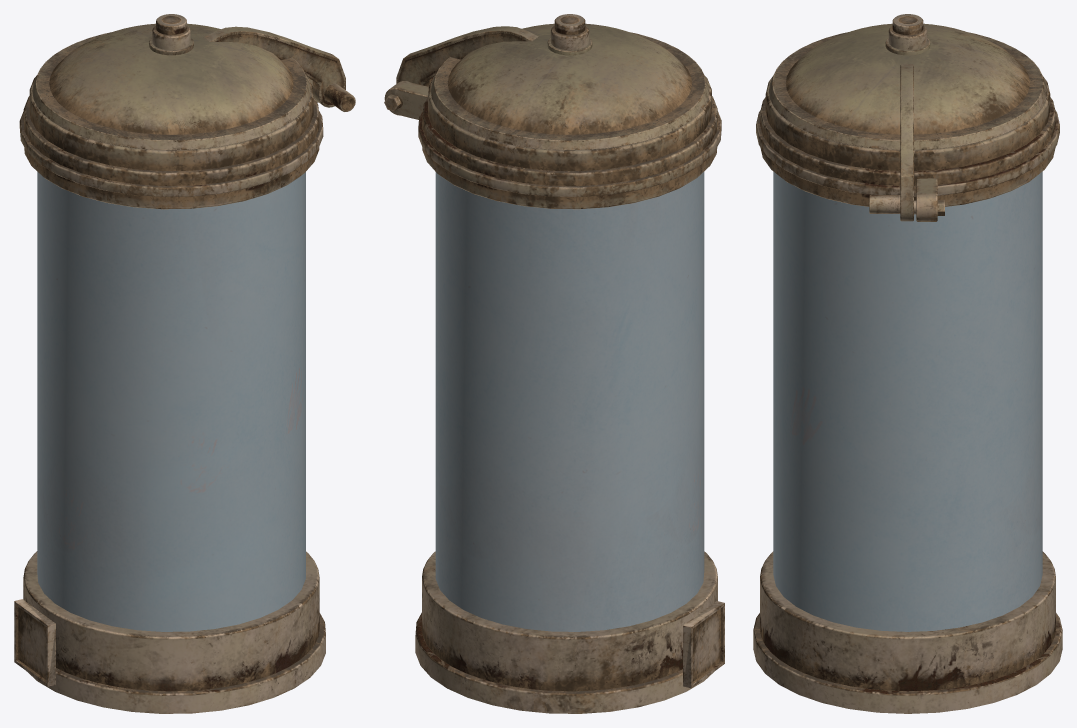
The model's file is SM_Big_Colba.fbx.
3 renders of one model, left to right at view 1: azimuth 30°, elevation 25°; view 2: azimuth 150°, elevation 25°; view 3: azimuth 270°, elevation 25°, orthographic.
Visible parts, largest first — view 1: SM_Big_Colba_Glass, SM_Big_Colba, SM_Big_Colba_Luck, SM_Big_Colba_Tablichka; view 2: SM_Big_Colba_Glass, SM_Big_Colba, SM_Big_Colba_Luck, SM_Big_Colba_Tablichka; view 3: SM_Big_Colba_Glass, SM_Big_Colba, SM_Big_Colba_Luck.
Boxes of the visible parts, left/top/right/bottom form: SM_Big_Colba_Glass: left=37, top=172, right=305, bottom=631; SM_Big_Colba: left=19, top=74, right=355, bottom=713; SM_Big_Colba_Luck: left=32, top=14, right=345, bottom=150; SM_Big_Colba_Tablichka: left=14, top=599, right=55, bottom=686; SM_Big_Colba_Glass: left=435, top=172, right=704, bottom=631; SM_Big_Colba: left=384, top=74, right=721, bottom=713; SM_Big_Colba_Luck: left=396, top=14, right=708, bottom=150; SM_Big_Colba_Tablichka: left=683, top=601, right=724, bottom=688; SM_Big_Colba_Glass: left=773, top=171, right=1042, bottom=631; SM_Big_Colba: left=753, top=75, right=1062, bottom=713; SM_Big_Colba_Luck: left=769, top=14, right=1046, bottom=221.
Bounding box in the file's own units: 1.33 × 2.58 × 1.15.
